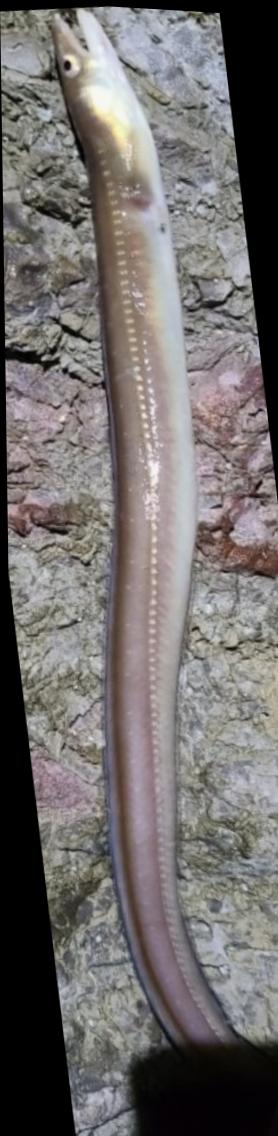fish: (47, 6, 237, 1051)
